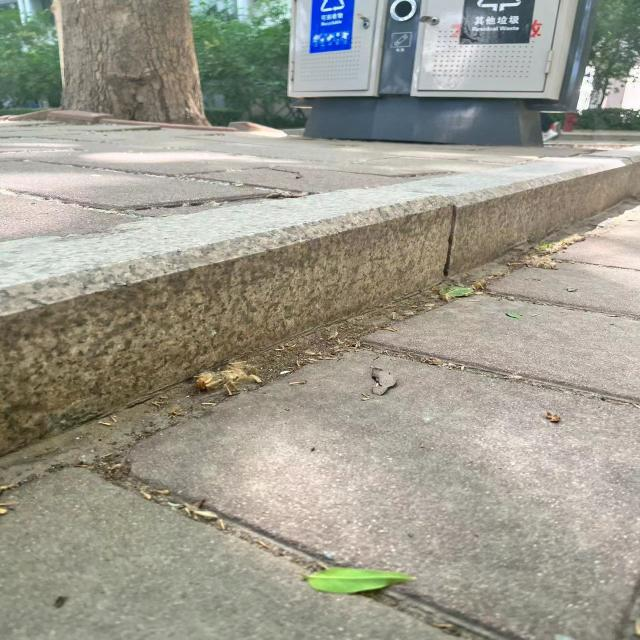curb: (1, 143, 638, 460)
